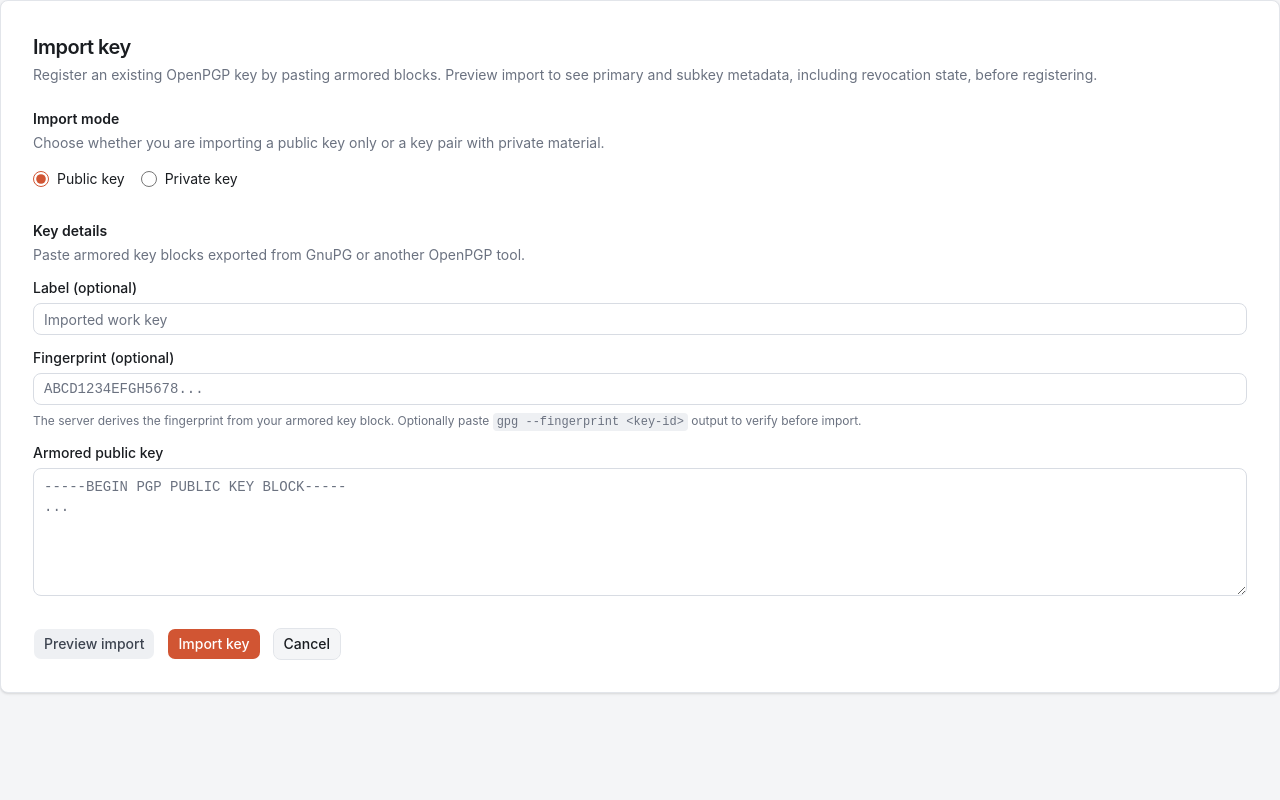
Test: ImportKeyPage › shows ApiError detail and request id on failure
This screenshot has width=1280, height=800.
Type "-----BEGIN PGP PUBLIC KEY BLOCK----- Version: Test mQENBGexample -----END PGP PUBLIC KEY BLOCK-----" into the text box labelled "Armored public key".
click(640, 532); type("-----BEGIN PGP PUBLIC KEY BLOCK----- Version: Test mQENBGexample -----END PGP PUBLIC KEY BLOCK-----")  # box [33,468,1247,596]
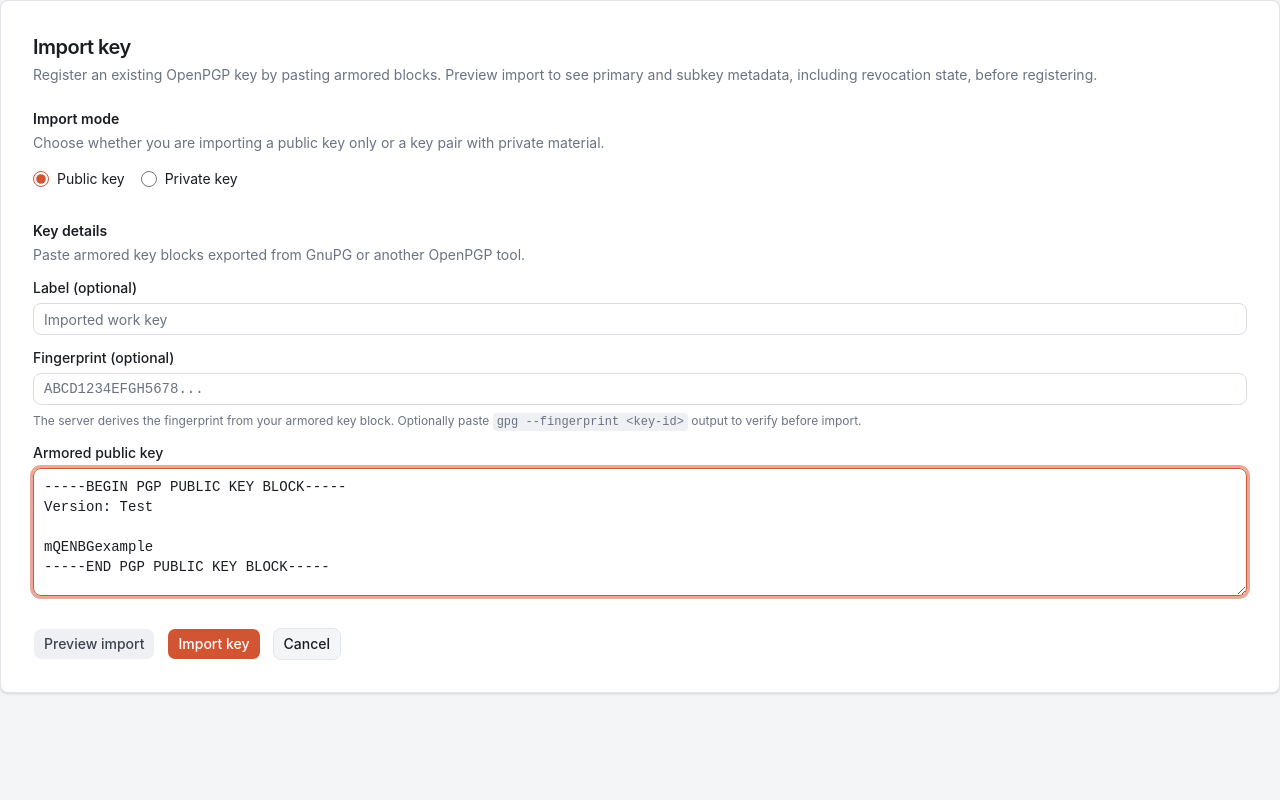
Click the button "Import key".
click(214, 644)  # box [168,628,260,660]
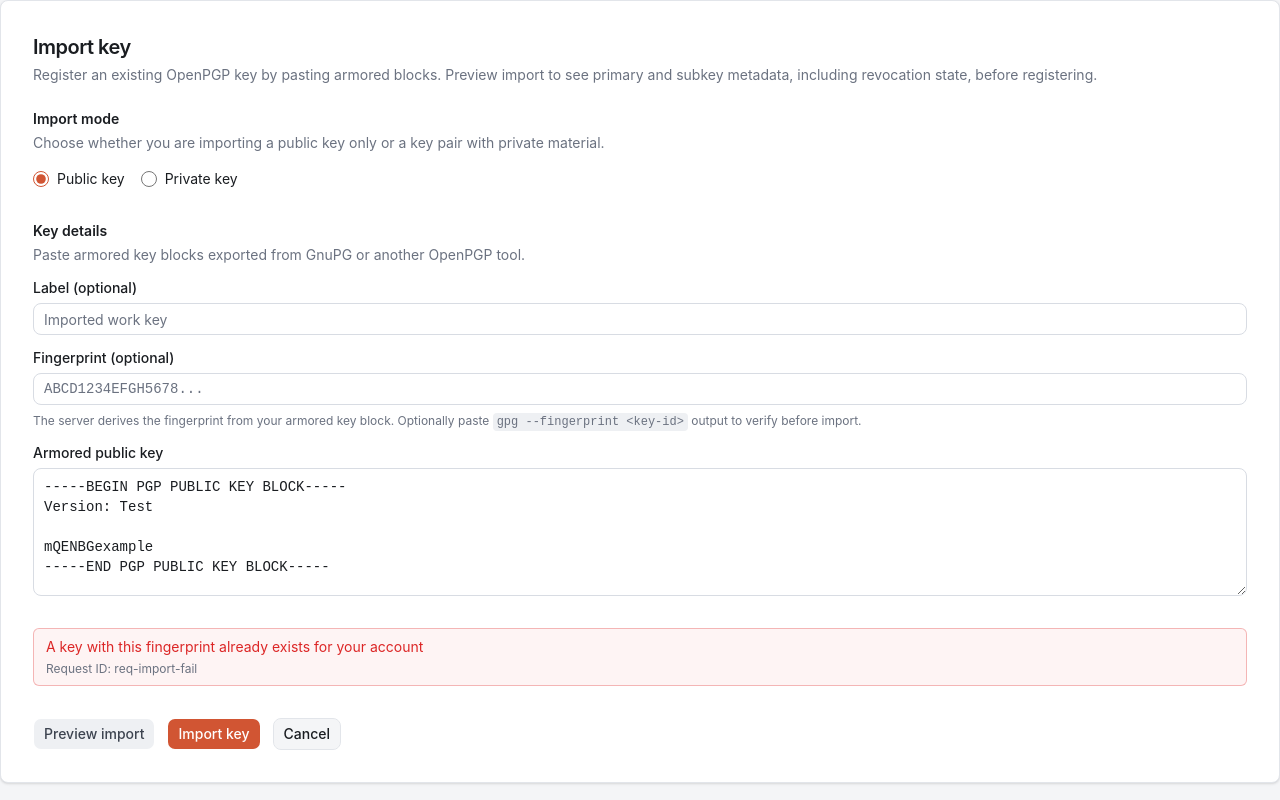
Result: the text "A key with this fingerprint already exists for your account" is shown at [46,638,423,655]
Result: the text "Request ID: req-import-fail" is shown at [46,661,197,676]
